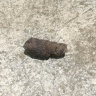Dog: (23, 38, 67, 60)
